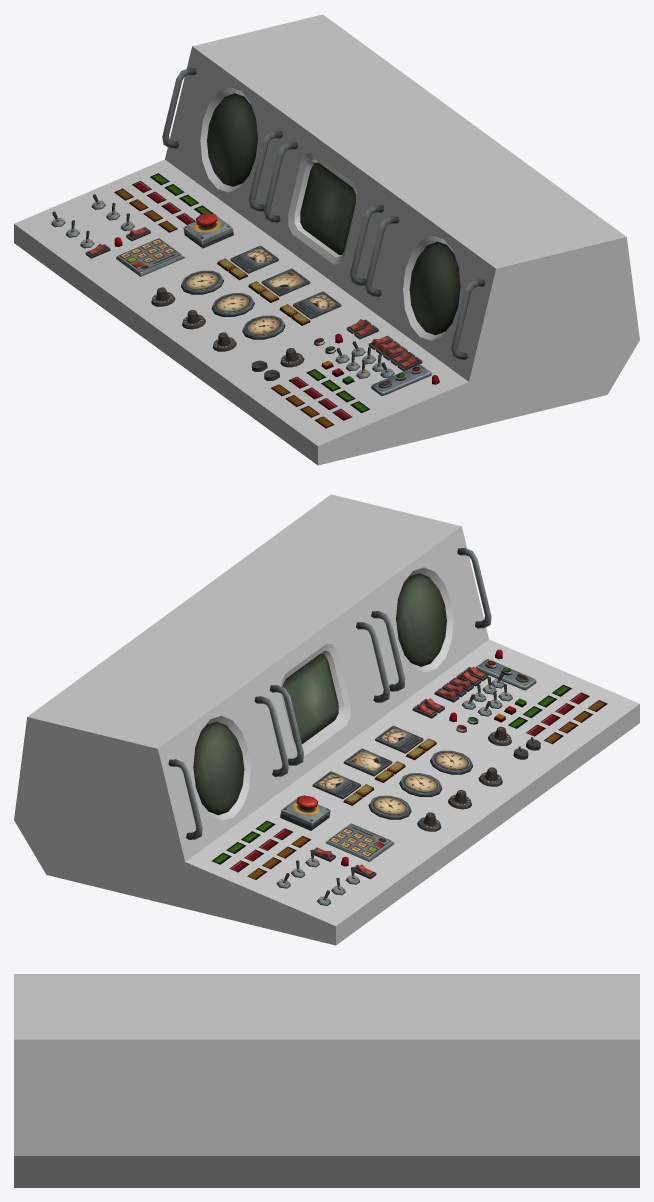
Rendered from ctrlPanel_middle02_B.FBX.
3 renders of one model, top to bottom at view 1: azimuth 30°, elevation 25°; view 2: azimuth 150°, elevation 25°; view 3: azimuth 270°, elevation 25°, orthographic. The views are drawn at different scales.
Parts seen in each view (by area): view 1: ctrlPanel_middle02_B, ctrlPanel_buttons, ctrlPanel_gauges, screen_radar02, screen_radar01, screen_computer01; view 2: ctrlPanel_middle02_B, ctrlPanel_buttons, ctrlPanel_gauges, screen_radar01, screen_radar02, screen_computer01; view 3: ctrlPanel_middle02_B.
Boxes of the visible parts, box(x1,y1,x2,y2) form: ctrlPanel_middle02_B: box(14, 14, 639, 465); ctrlPanel_buttons: box(114, 173, 439, 428); ctrlPanel_gauges: box(181, 245, 341, 339); screen_radar02: box(409, 241, 460, 335); screen_radar01: box(207, 93, 257, 186); screen_computer01: box(300, 162, 355, 254); ctrlPanel_middle02_B: box(14, 494, 639, 945); ctrlPanel_buttons: box(212, 649, 607, 879); ctrlPanel_gauges: box(312, 725, 472, 819); screen_radar01: box(193, 721, 244, 815); screen_radar02: box(396, 573, 446, 666); screen_computer01: box(282, 653, 338, 743); ctrlPanel_middle02_B: box(14, 974, 639, 1187).
Size of the model in its own units: 122 by 55.64 by 200.
